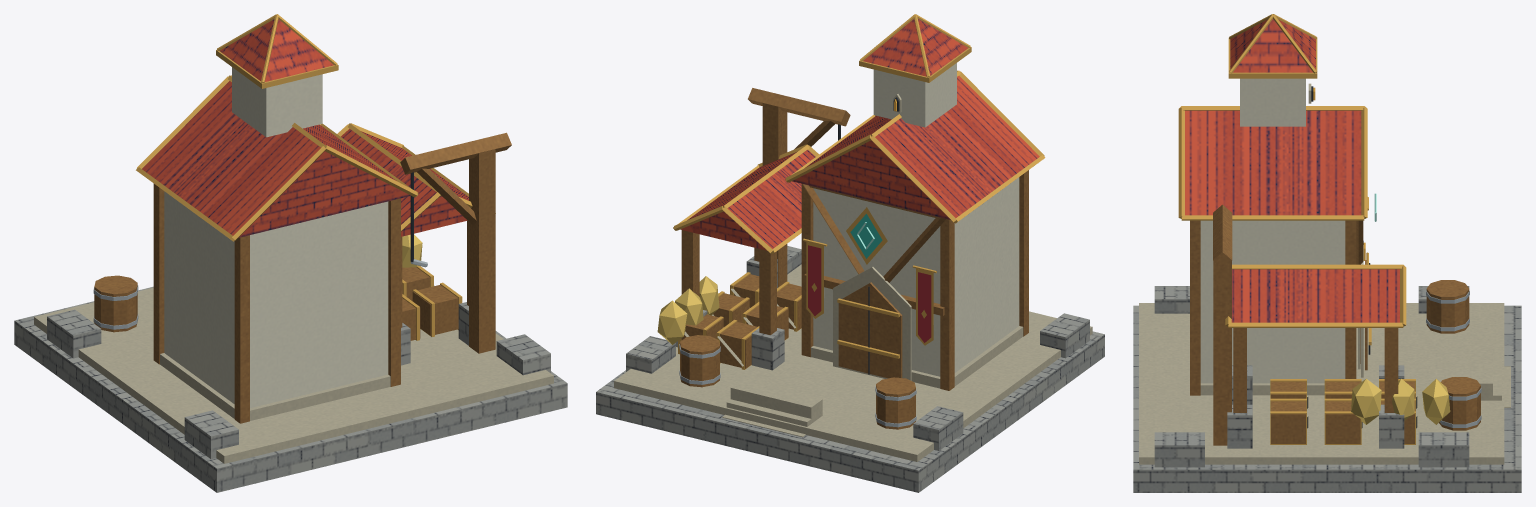
The model's file is Warehouse_2.fbx.
3 views of the same model, side by side, from view 1: azimuth 30°, elevation 25°; view 2: azimuth 150°, elevation 25°; view 3: azimuth 270°, elevation 25° (orthographic). The views are drawn at different scales.
Visible parts, largest first — view 1: Warehouse_2; view 2: Warehouse_2; view 3: Warehouse_2.
Part boxes in pixels (box(x1,y1,x2,y2)): Warehouse_2: box(14, 14, 567, 492); Warehouse_2: box(596, 14, 1104, 492); Warehouse_2: box(1133, 14, 1521, 492).
Bounding box in the file's own units: 1 × 1.07 × 1.
1 material, 1 textured.
